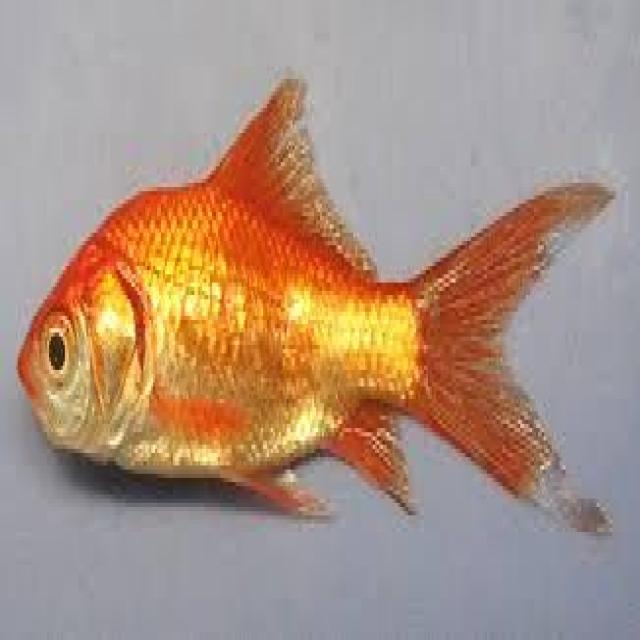Gold-Fish: (6, 62, 640, 557)
